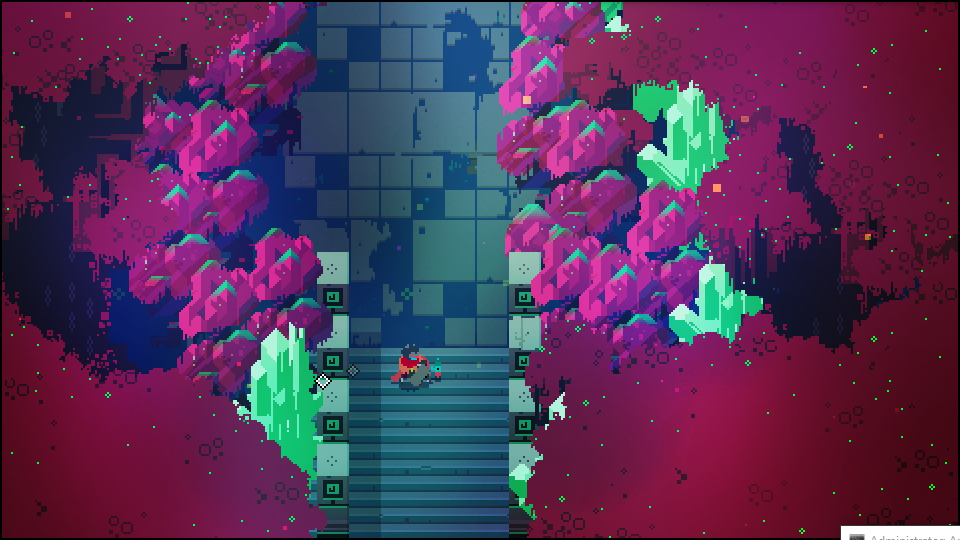player: (392, 346, 436, 391)
